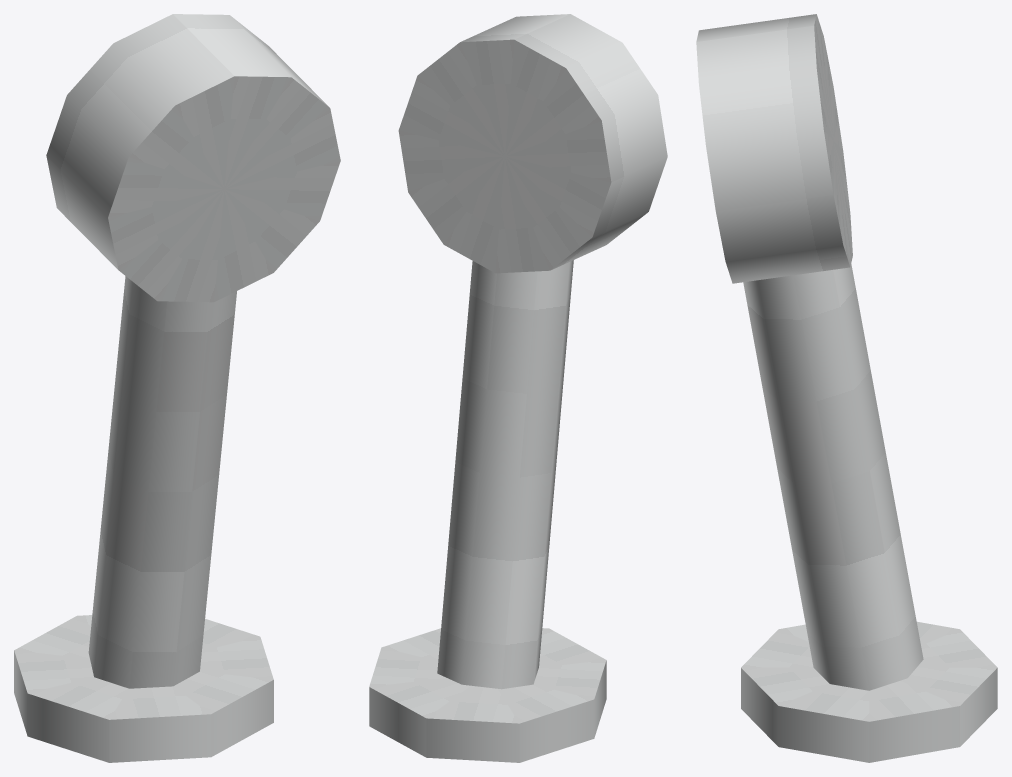
File: trusssignalarm_stub_12.obj
3 renders of one model, left to right at view 1: azimuth 30°, elevation 25°; view 2: azimuth 150°, elevation 25°; view 3: azimuth 270°, elevation 25°, orthographic. The views are drawn at different scales.
Visible parts, largest first — view 1: trusssignalarm_stub_12; view 2: trusssignalarm_stub_12; view 3: trusssignalarm_stub_12.
Boxes of the visible parts, <box> form: trusssignalarm_stub_12: <box>14,14,340,762</box>; trusssignalarm_stub_12: <box>369,14,667,762</box>; trusssignalarm_stub_12: <box>696,14,997,762</box>.
Bounding box in the file's own units: 0.35 × 1.03 × 0.4108.
